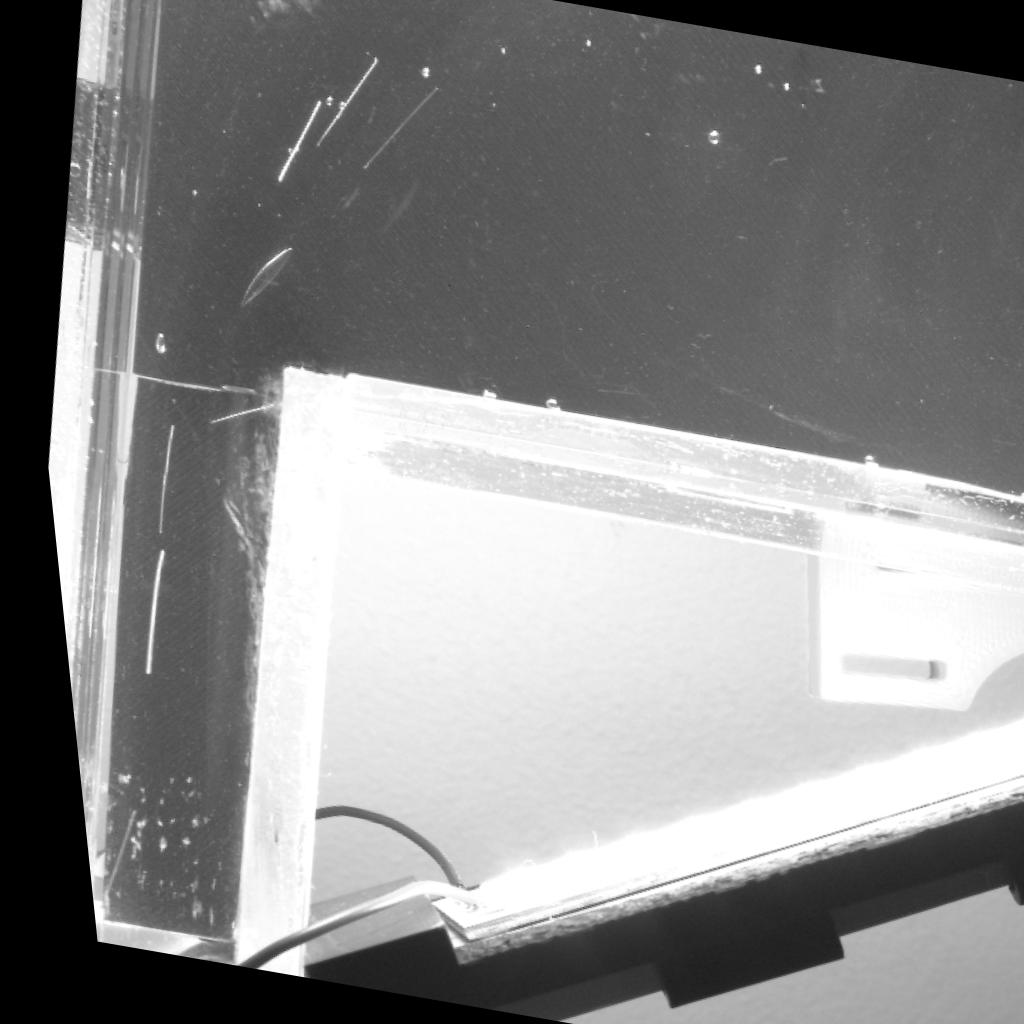Fiber: (356, 81, 437, 175), (310, 49, 378, 150), (75, 804, 118, 918), (271, 95, 321, 183), (129, 547, 155, 675), (200, 399, 273, 425), (147, 423, 164, 532)
